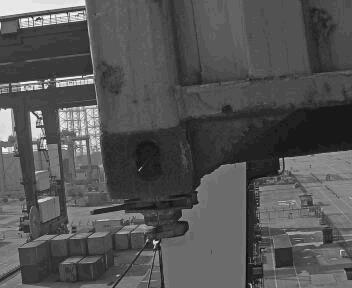twist_lock_1: (113, 196, 208, 243)
